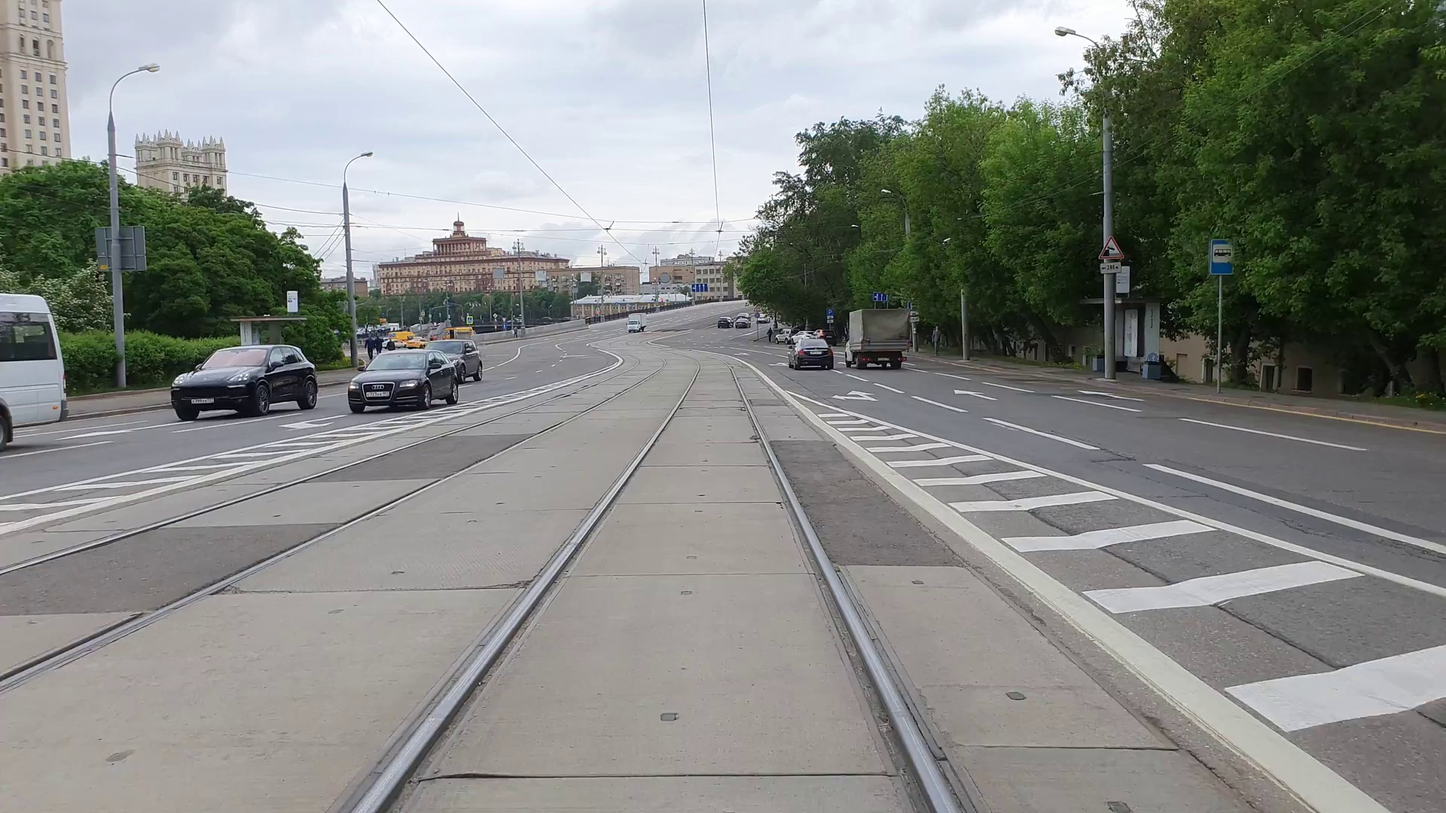acesa: (354, 150, 382, 174)
